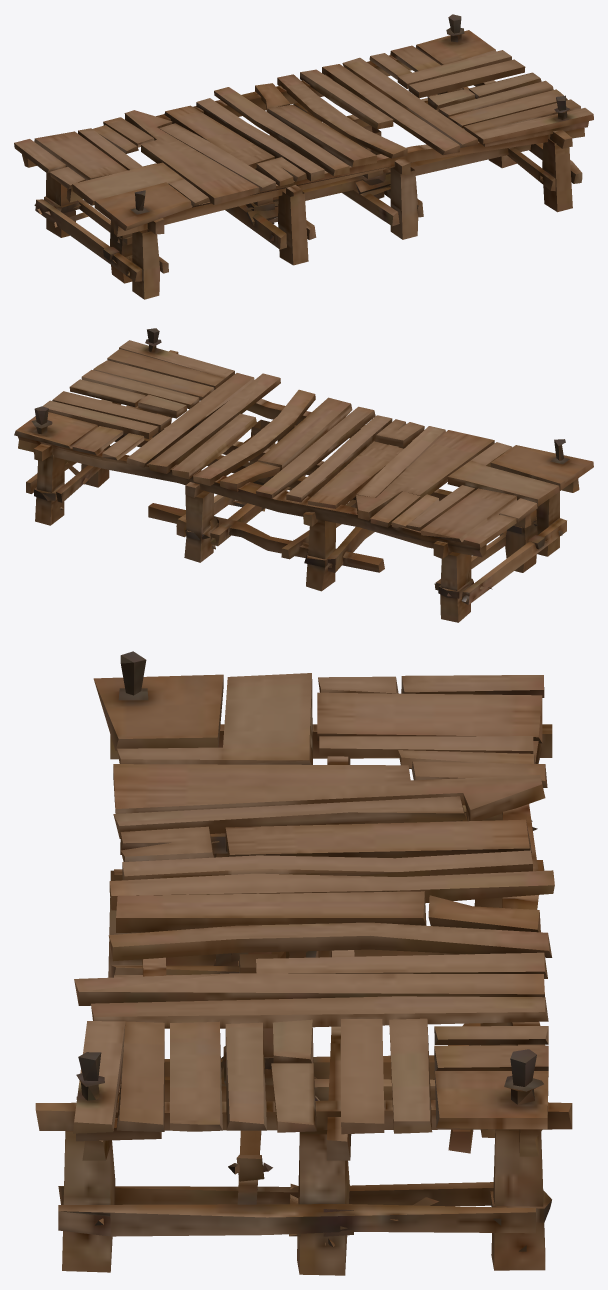
The model's file is jetty-planked.glb.
The picture shows the model from 3 angles, top to bottom: view 1: azimuth 30°, elevation 25°; view 2: azimuth 150°, elevation 25°; view 3: azimuth 270°, elevation 25°; orthographic projection. The views are drawn at different scales.
Parts seen in each view (by area): view 1: tripo_node_9ca5f381-8c00-42ce-9671-b91b3c64428c.001; view 2: tripo_node_9ca5f381-8c00-42ce-9671-b91b3c64428c.001; view 3: tripo_node_9ca5f381-8c00-42ce-9671-b91b3c64428c.001.
Part boxes in pixels (<box>): tripo_node_9ca5f381-8c00-42ce-9671-b91b3c64428c.001: <box>14,14,593,299</box>; tripo_node_9ca5f381-8c00-42ce-9671-b91b3c64428c.001: <box>14,328,593,622</box>; tripo_node_9ca5f381-8c00-42ce-9671-b91b3c64428c.001: <box>35,651,572,1275</box>.
Bounding box in the file's own units: 0.9995 × 0.2305 × 0.4995.
Materials: 1 (1 with a texture image).
